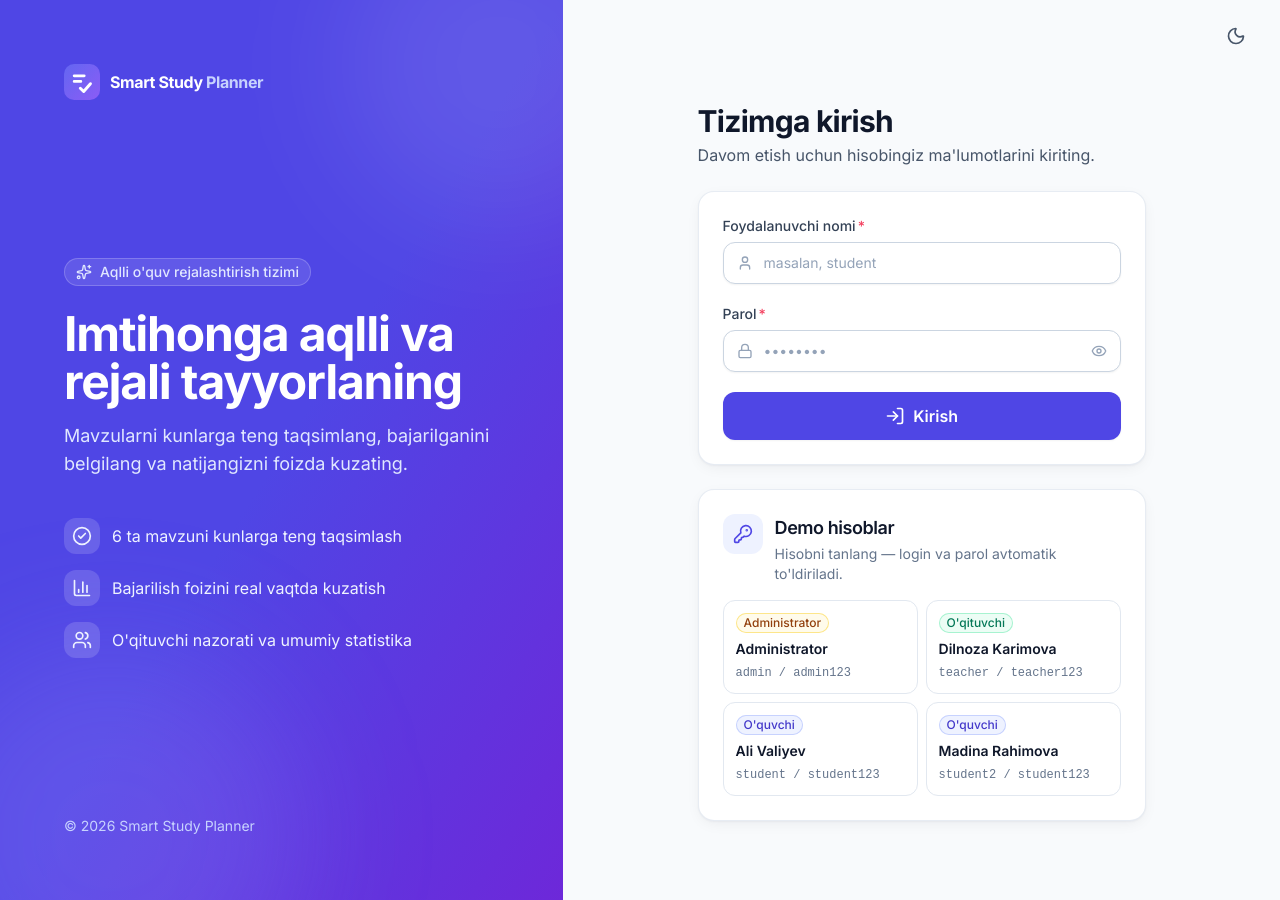
Test: LoginPage › shows the network error message when the server is unreachable
In the field labelled "Foydalanuvchi nomi*": [922, 263] box 723,242 -> 1121,284, type "student"
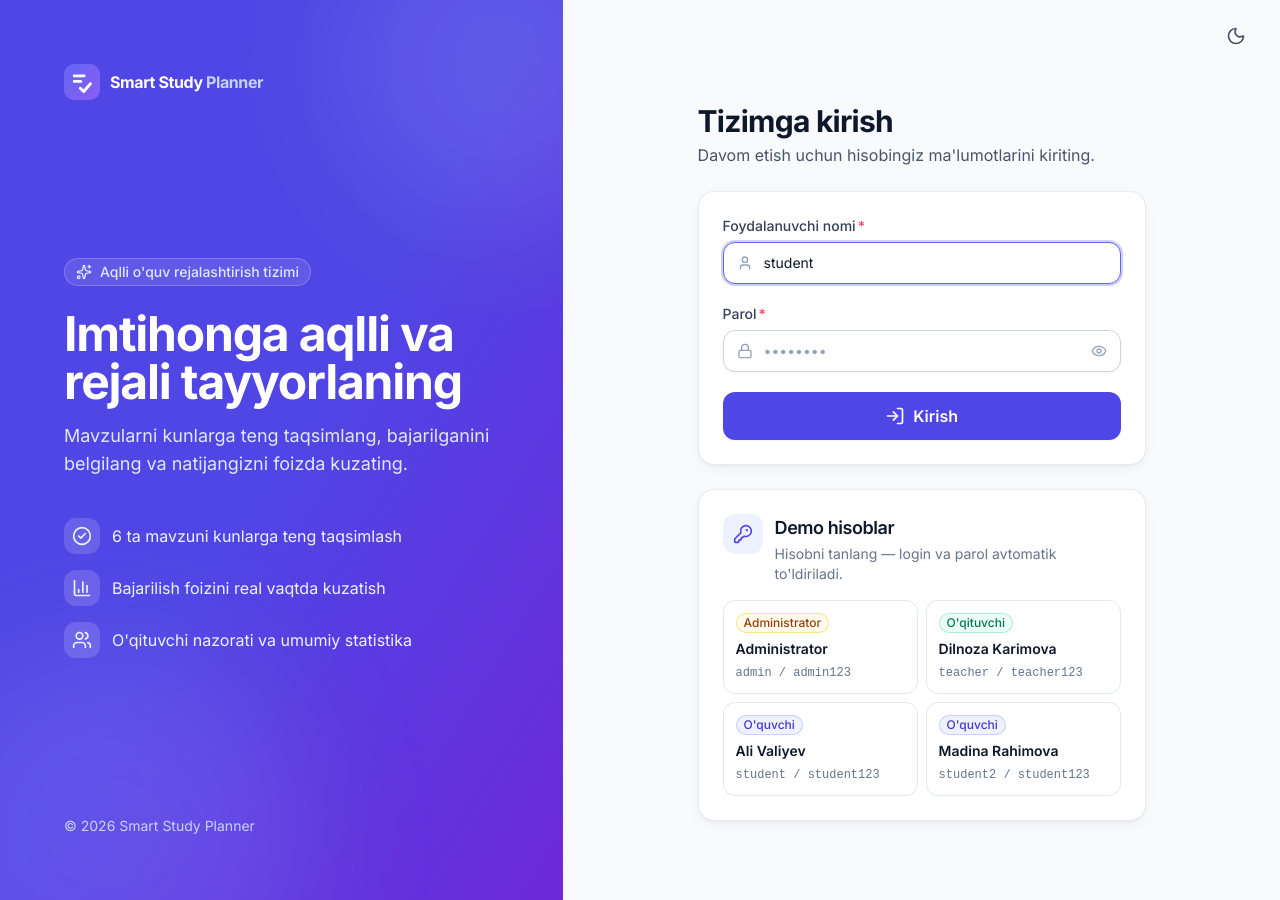
In the password field labelled "Parol*": [922, 351] box 723,330 -> 1121,372, type "student123"
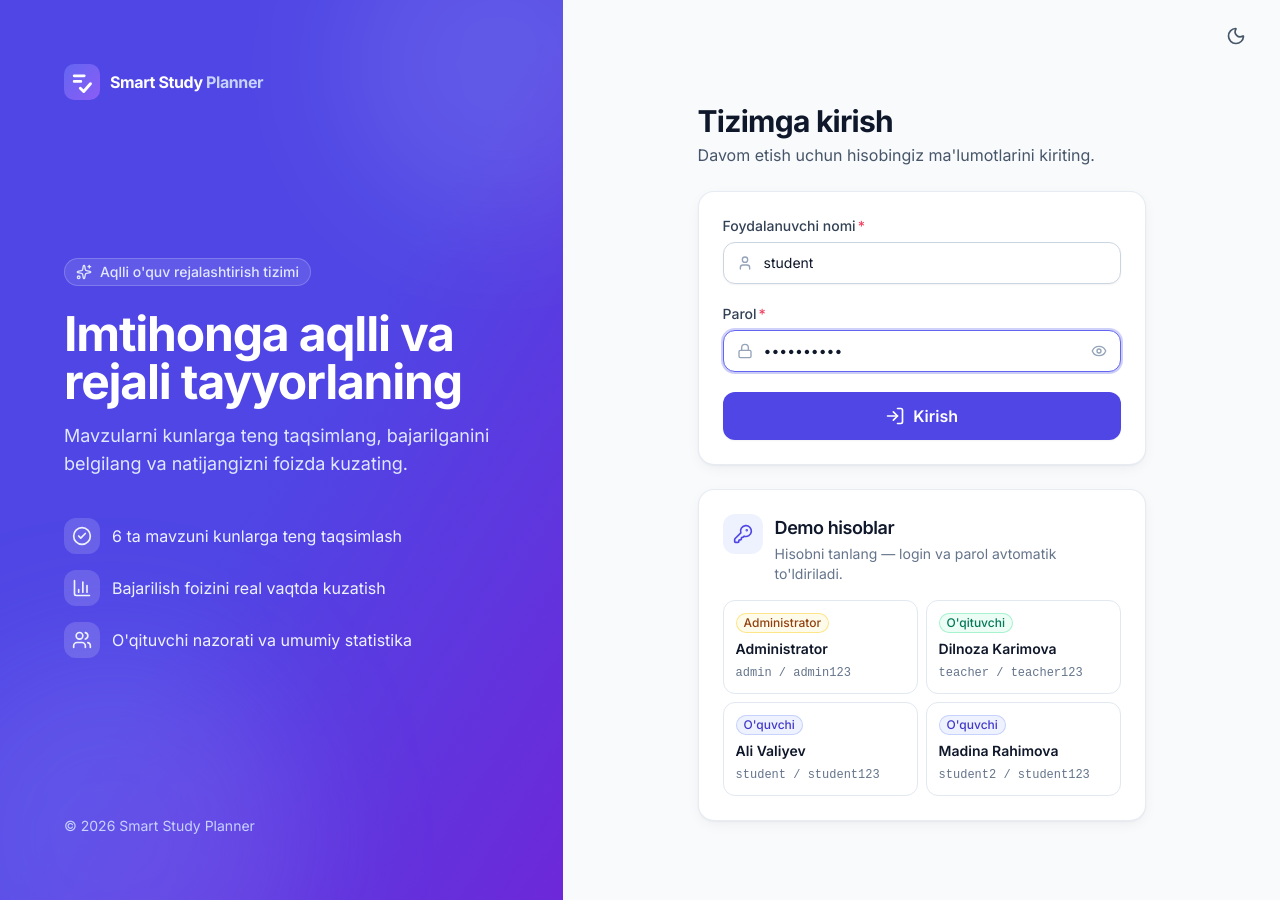
Click the button "Kirish": [922, 416] box 723,392 -> 1121,440
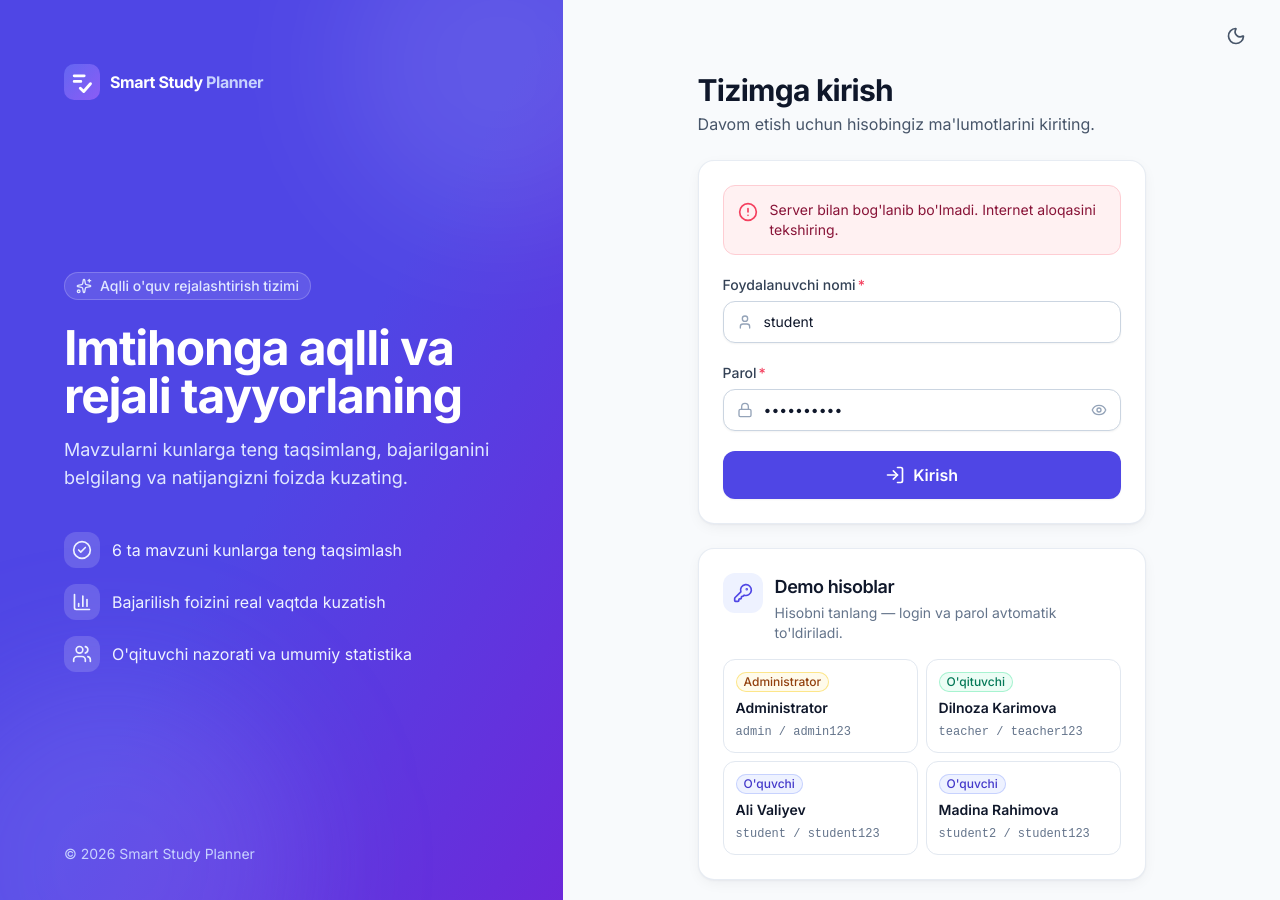
Check: the text "Server bilan bog'lanib bo'lmadi. Internet aloqasini tekshiring." is shown, box 770,200 -> 1106,240
